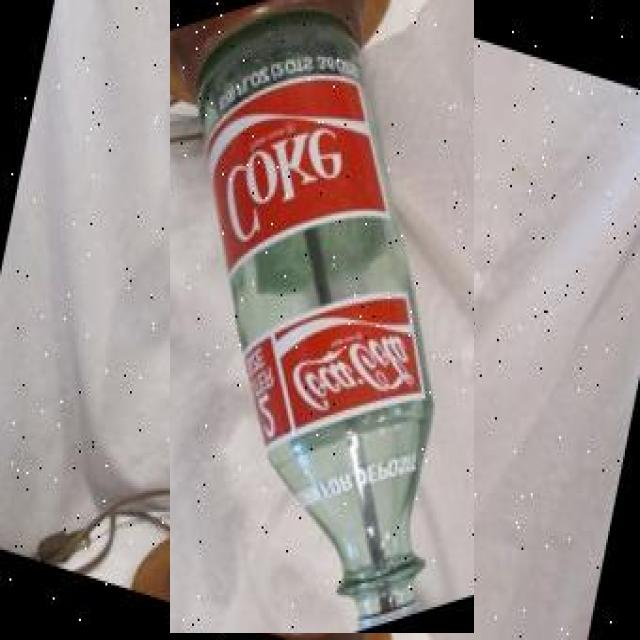coca-cola: (170, 0, 474, 633)
